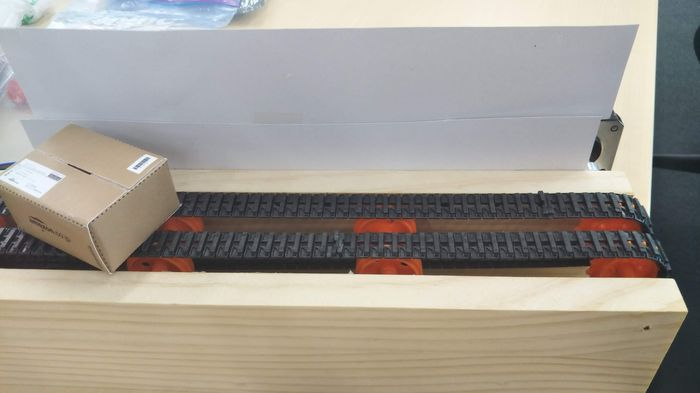box1: (0, 113, 181, 276)
